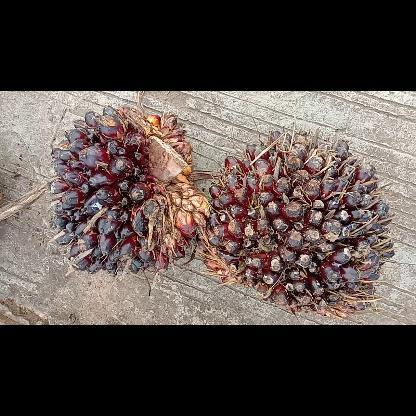TBS mentah: (201, 127, 395, 317), (48, 103, 210, 281)
